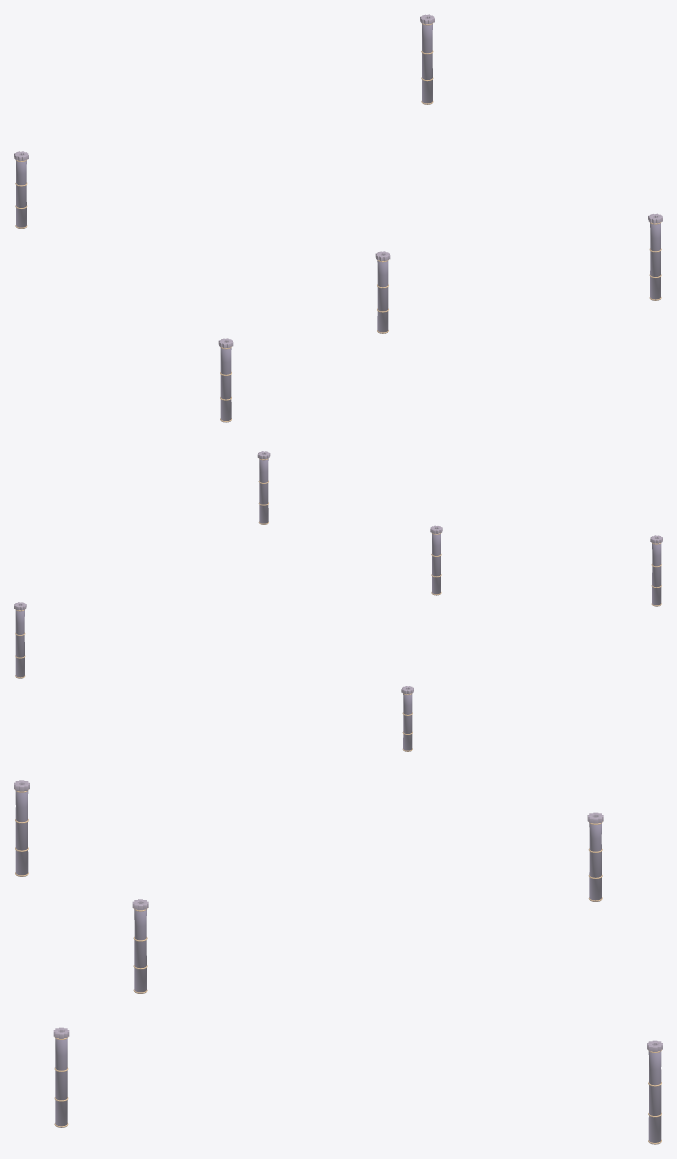
File: castle_district_spires_cursed.glb
3 renders of one model, top to bottom at view 1: azimuth 30°, elevation 25°; view 2: azimuth 150°, elevation 25°; view 3: azimuth 270°, elevation 25°, orthographic. The views are drawn at different scales.
Parts seen in each view (by area): view 1: castle_district_spires_cursed_surface; view 2: castle_district_spires_cursed_surface; view 3: castle_district_spires_cursed_surface.
Boxes of the visible parts, x1=… form: castle_district_spires_cursed_surface: x1=14, y1=14, x2=662, y2=422; castle_district_spires_cursed_surface: x1=14, y1=451, x2=662, y2=751; castle_district_spires_cursed_surface: x1=14, y1=780, x2=662, y2=1144.
Bounding box in the file's own units: 164 × 27.3 × 164.
